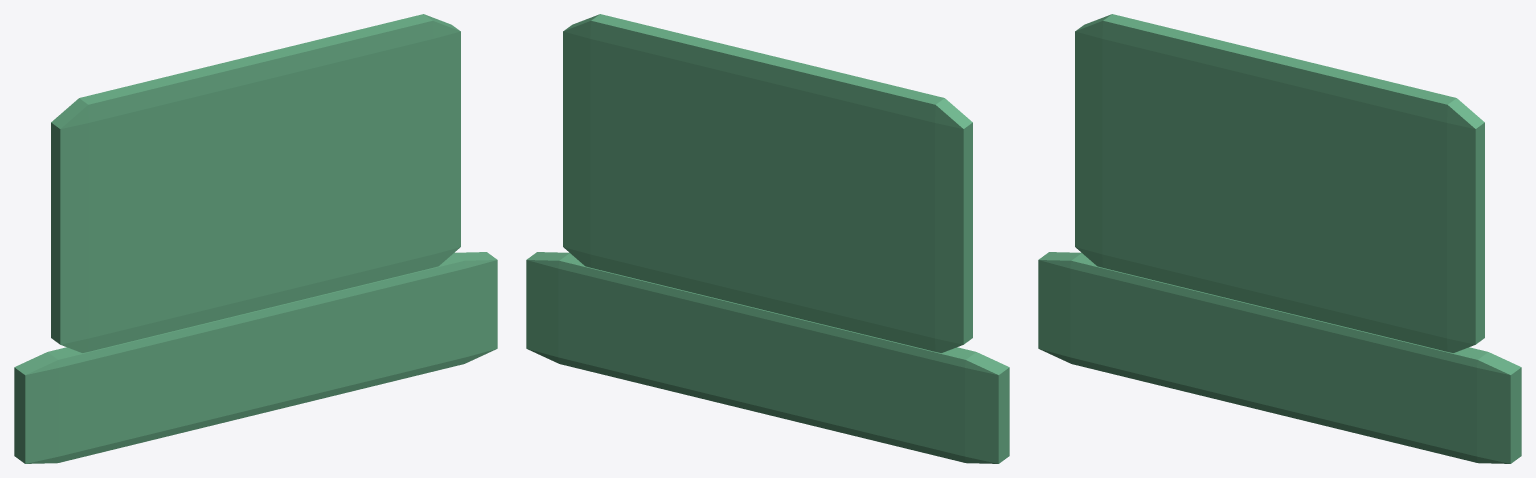
The model's file is b02_parking_height_clearance_gantry.glb.
3 views of the same model, side by side, from view 1: azimuth 30°, elevation 25°; view 2: azimuth 150°, elevation 25°; view 3: azimuth 330°, elevation 25° (orthographic).
Visible parts, largest first — view 1: b02_parking_height_clearance_gantry; view 2: b02_parking_height_clearance_gantry; view 3: b02_parking_height_clearance_gantry.
Part boxes in pixels (x1,y1,x2,y2): b02_parking_height_clearance_gantry: [14, 14, 497, 463]; b02_parking_height_clearance_gantry: [526, 14, 1009, 463]; b02_parking_height_clearance_gantry: [1038, 14, 1521, 463].
Size of the model in its own units: 4.42 by 3.13 by 0.205.
